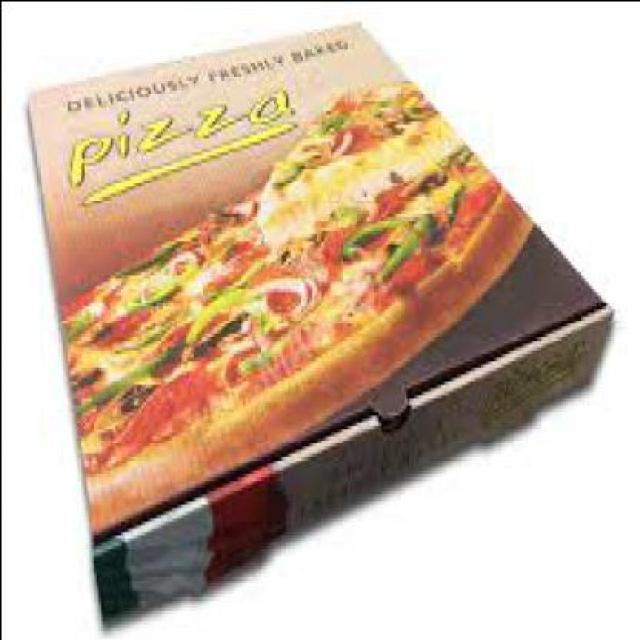CARDBOARD: (22, 17, 606, 620)
